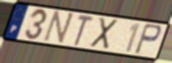1: (125, 22, 142, 53)
3: (24, 8, 48, 42)
N: (41, 10, 76, 46)
P: (132, 22, 163, 56)
T: (73, 14, 95, 48)
X: (89, 17, 120, 51)
